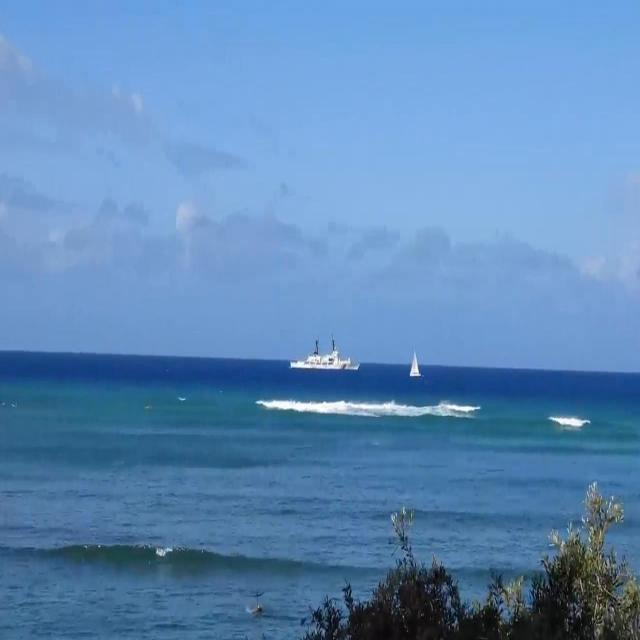Ship: (291, 338, 353, 375), (410, 349, 423, 382)
